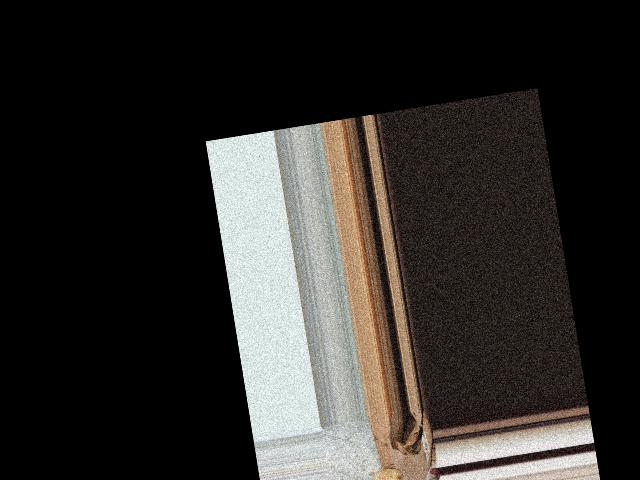onion: (362, 459, 412, 480)
